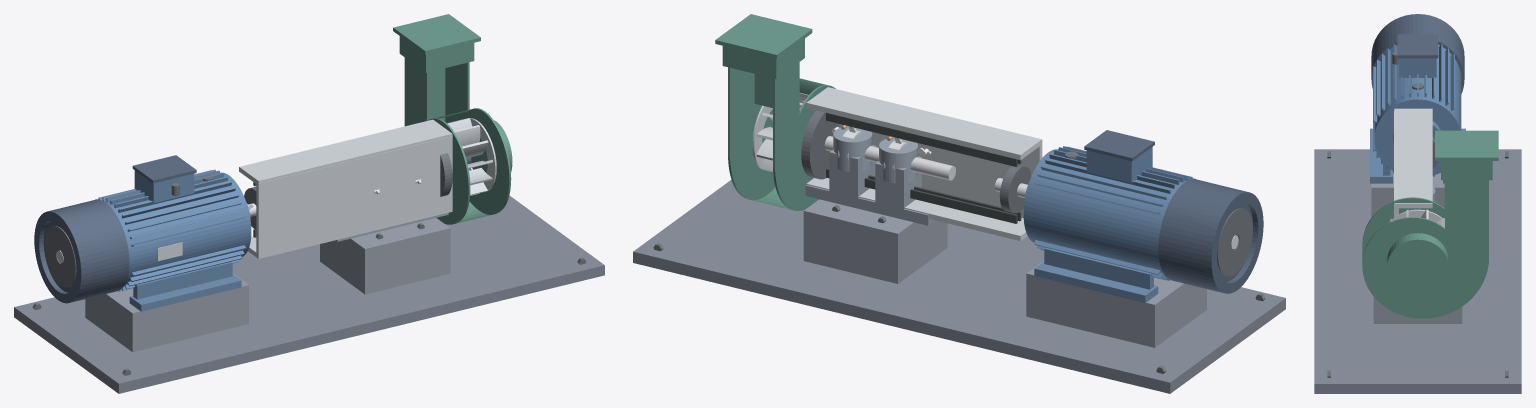
The model's file is blower.glb.
The picture shows the model from 3 angles, left to right: view 1: azimuth 30°, elevation 25°; view 2: azimuth 150°, elevation 25°; view 3: azimuth 270°, elevation 25°; orthographic projection. The views are drawn at different scales.
Visible parts, largest first — view 1: PART_001, CASING_BELTGUARD_045, CASING_MOTORBODY_006, PART_022, CASING_FINS_009, CASING_COWL_010, CASING_BELTGUARD_047, PART_055, CASING_BLOWERHOUSING_073, CASING_BLOWERHOUSING_072, PART_066, CASING_COWL_011 (+11 smaller); view 2: PART_001, CASING_MOTORBODY_006, PART_022, CASING_BELTGUARD_047, CASING_COWL_010, PART_055, CASING_BLOWERHOUSING_072, CASING_FINS_009, CASING_BLOWERHOUSING_073, CASING_BELTGUARD_045, PART_066, CASING_BLOWERHOUSING_078 (+22 smaller); view 3: PART_001, CASING_BLOWERHOUSING_073, CASING_BELTGUARD_047, CASING_INLET_094, CASING_FINS_009, CASING_COWL_010, CASING_MOTORBODY_006, CASING_ENDBELL_007, CASING_BLOWERHOUSING_078, CASING_BLOWERHOUSING_072, PART_014, CASING_BLOWERHOUSING_077 (+6 smaller).
Boxes of the visible parts, bbox=[...] form: PART_001: bbox=[14, 195, 604, 393]; CASING_BELTGUARD_045: bbox=[256, 136, 452, 256]; CASING_MOTORBODY_006: bbox=[104, 172, 250, 286]; PART_022: bbox=[85, 273, 248, 352]; CASING_FINS_009: bbox=[95, 169, 246, 291]; CASING_COWL_010: bbox=[43, 199, 129, 301]; CASING_BELTGUARD_047: bbox=[239, 119, 455, 185]; PART_055: bbox=[320, 228, 408, 294]; CASING_BLOWERHOUSING_073: bbox=[445, 62, 511, 214]; CASING_BLOWERHOUSING_072: bbox=[404, 57, 470, 224]; PART_066: bbox=[393, 218, 450, 283]; CASING_COWL_011: bbox=[34, 210, 87, 303]; PART_001: bbox=[633, 180, 1285, 393]; CASING_MOTORBODY_006: bbox=[1024, 149, 1186, 274]; PART_022: bbox=[1026, 261, 1206, 347]; CASING_BELTGUARD_047: bbox=[803, 87, 1042, 160]; CASING_COWL_010: bbox=[1158, 179, 1253, 291]; PART_055: bbox=[849, 211, 947, 283]; CASING_BLOWERHOUSING_072: bbox=[773, 62, 835, 210]; CASING_FINS_009: bbox=[1034, 146, 1195, 280]; CASING_BLOWERHOUSING_073: bbox=[728, 67, 775, 200]; CASING_BELTGUARD_045: bbox=[839, 124, 1042, 218]; PART_066: bbox=[803, 199, 867, 271]; CASING_BLOWERHOUSING_078: bbox=[715, 14, 812, 58]; PART_001: bbox=[1314, 149, 1521, 393]; CASING_BLOWERHOUSING_073: bbox=[1362, 180, 1488, 318]; CASING_BELTGUARD_047: bbox=[1394, 108, 1432, 208]; CASING_INLET_094: bbox=[1387, 233, 1448, 295]; CASING_FINS_009: bbox=[1373, 44, 1454, 176]; CASING_COWL_010: bbox=[1371, 16, 1464, 93]; CASING_MOTORBODY_006: bbox=[1374, 44, 1461, 133]; CASING_ENDBELL_007: bbox=[1374, 95, 1461, 175]; CASING_BLOWERHOUSING_078: bbox=[1435, 130, 1498, 160]; CASING_BLOWERHOUSING_072: bbox=[1362, 197, 1444, 254]; PART_014: bbox=[1397, 34, 1438, 58]; CASING_BLOWERHOUSING_077: bbox=[1441, 161, 1492, 180].
Size of the model in its own units: 3.82 by 1.54 by 1.4.
